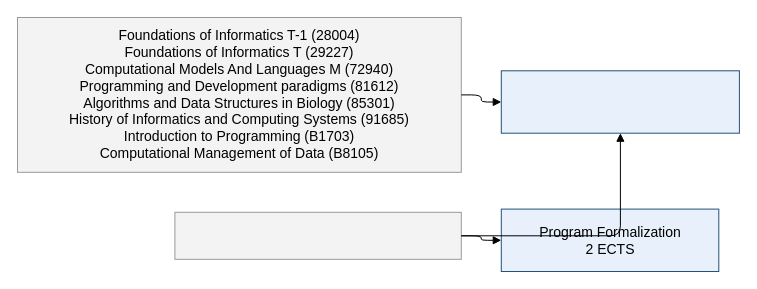
This 757x289 diagram has some shape labels left out. The box of each missing label's shape, as (x1, y1, x2, y2) in pixels:
Computation Foundations 3 ECTS: (500, 70, 739, 133)
Programming Languages (04138): (174, 211, 461, 259)
